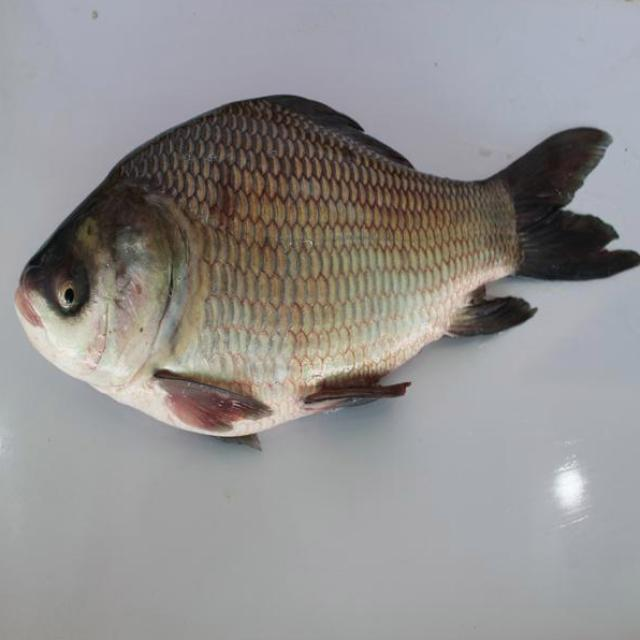Catla: (13, 92, 640, 451)
